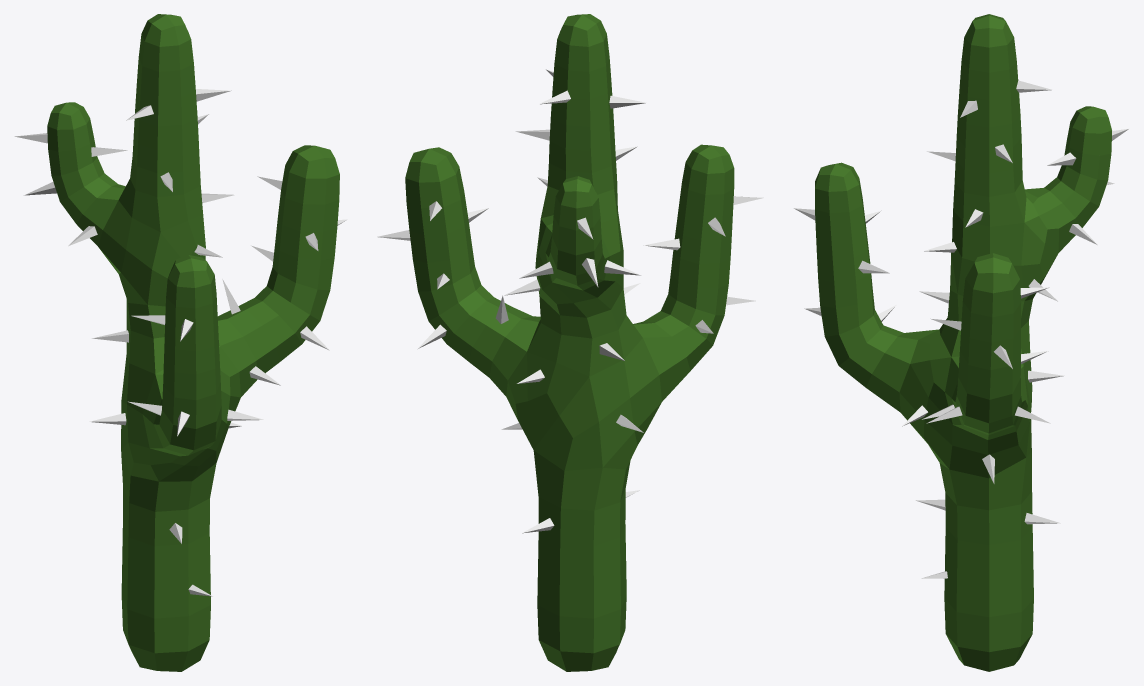
Rendered from ENV_Cactus01_Placeholder.fbx.
3 renders of one model, left to right at view 1: azimuth 30°, elevation 25°; view 2: azimuth 150°, elevation 25°; view 3: azimuth 270°, elevation 25°, orthographic.
Parts seen in each view (by area): view 1: Plane; view 2: Plane; view 3: Plane.
Boxes of the visible parts, x1,y1,x2,y2 form: Plane: (47,14,339,671); Plane: (405,14,734,671); Plane: (815,14,1111,671).
Bounding box in the file's own units: 171 × 166 × 367.
